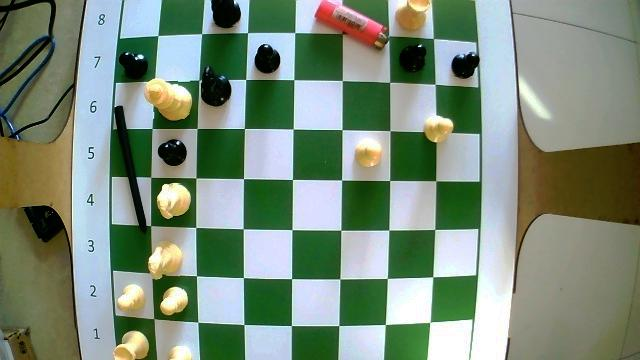piece: (144, 78, 190, 119), (148, 241, 180, 279), (201, 66, 229, 105), (157, 184, 189, 218), (115, 331, 148, 359), (397, 0, 429, 27), (211, 0, 239, 27), (160, 287, 187, 315), (424, 115, 452, 142), (116, 284, 144, 311), (158, 139, 186, 165), (119, 52, 148, 77), (255, 44, 279, 72), (401, 45, 426, 71), (451, 53, 478, 77), (355, 141, 379, 166), (169, 346, 190, 359)
